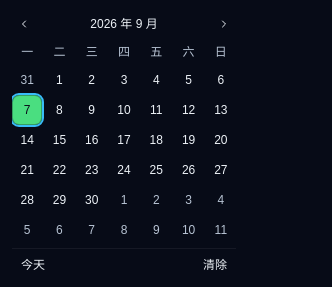
Test: DatePickerCalendar › 月导航：上/下个月按钮切换标题，且保留焦点日
This screenshot has width=332, height=287.
Click the button named "下个月".
click(224, 24)  # box x1=212 y1=12 x2=236 y2=36
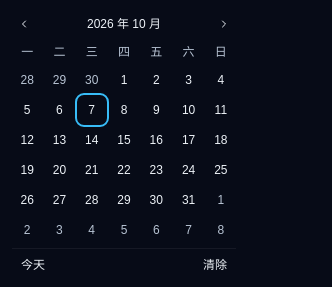
Check: the text "2026 年 10 月" is shown, box x1=87 y1=15 x2=161 y2=33
Click the button named "上个月".
click(24, 24)  # box x1=12 y1=12 x2=36 y2=36
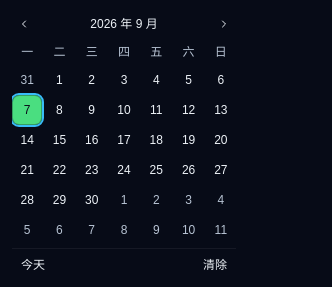
Check: the text "2026 年 9 月" is shown, box x1=90 y1=15 x2=158 y2=33
